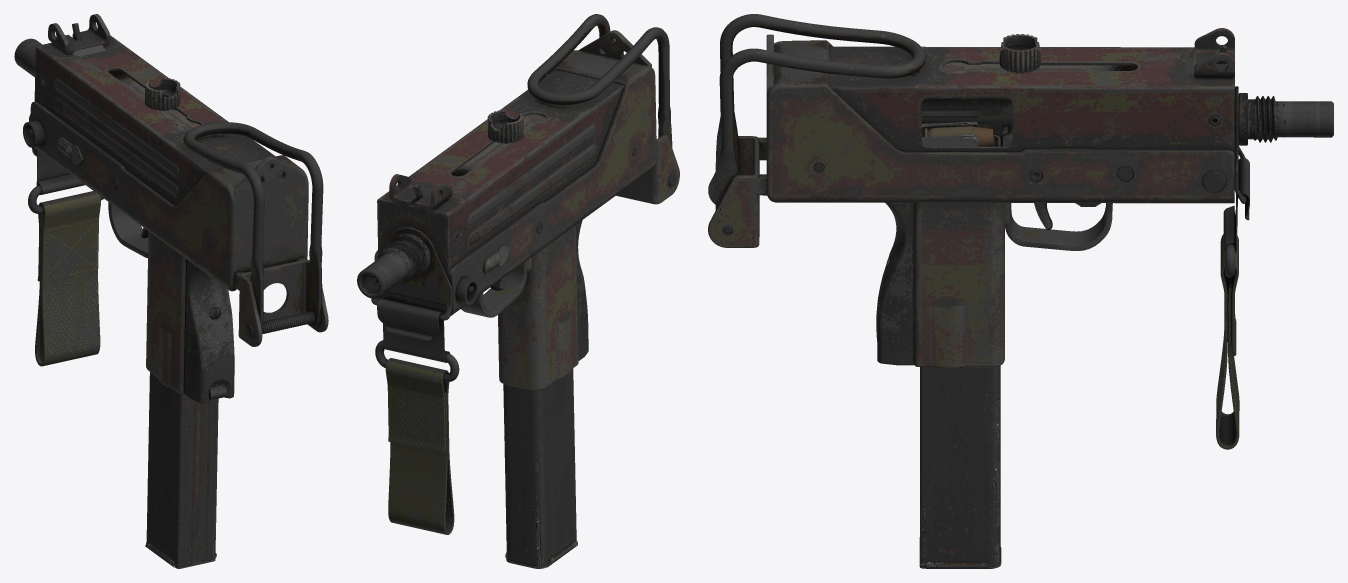
File: mac10_r.glb
3 renders of one model, left to right at view 1: azimuth 30°, elevation 25°; view 2: azimuth 150°, elevation 25°; view 3: azimuth 270°, elevation 25°, orthographic. The views are drawn at different scales.
Visible parts, largest first — view 1: v_mac10_R; view 2: v_mac10_R; view 3: v_mac10_R.
Part boxes in pixels (<box>): v_mac10_R: <box>14,14,328,568</box>; v_mac10_R: <box>357,14,679,568</box>; v_mac10_R: <box>708,14,1333,568</box>.
Size of the model in its own units: 0.0632 by 0.3103 by 0.3303.
Materials: 1 (1 with a texture image).
